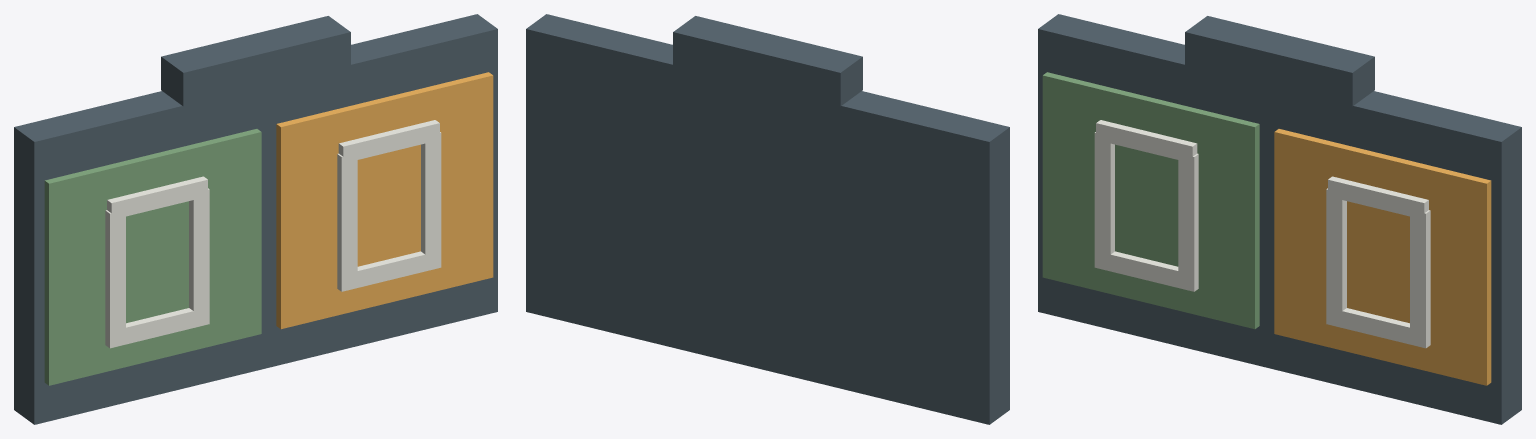
Rendered from football-soccer-club-grounds-substitution-board-05e2171f.glb.
3 renders of one model, left to right at view 1: azimuth 30°, elevation 25°; view 2: azimuth 150°, elevation 25°; view 3: azimuth 330°, elevation 25°, orthographic.
Parts seen in each view (by area): view 1: substitution-board; view 2: substitution-board; view 3: substitution-board.
Boxes of the visible parts, <box> form: substitution-board: <box>14,14,497,424</box>; substitution-board: <box>526,14,1009,424</box>; substitution-board: <box>1038,14,1521,424</box>.
Size of the model in its own units: 0.72 by 0.47 by 0.083.
